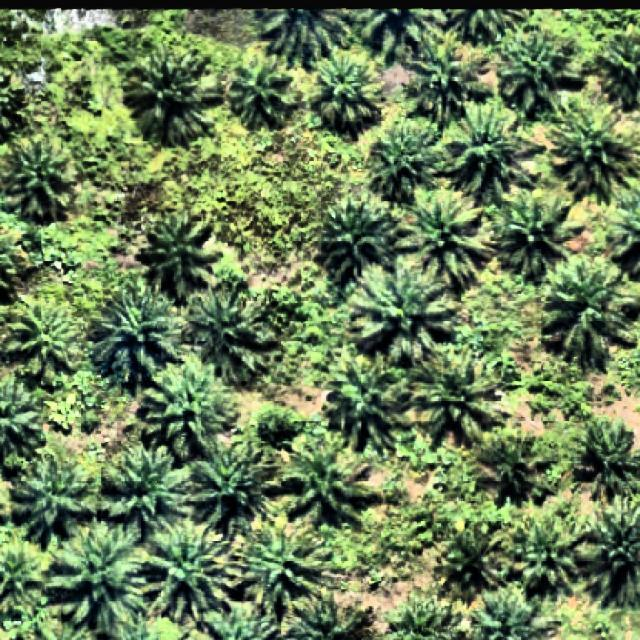Kelapa_Sawit: (267, 431, 398, 537), (139, 502, 247, 626), (161, 272, 274, 385), (83, 282, 192, 398), (404, 341, 514, 454), (46, 514, 151, 630), (136, 364, 250, 470), (534, 266, 640, 376), (440, 94, 543, 204), (352, 268, 463, 370), (126, 42, 225, 156), (0, 279, 92, 398), (543, 103, 640, 214), (323, 346, 419, 457), (400, 21, 496, 130), (134, 206, 228, 314), (312, 197, 417, 291), (403, 185, 497, 288), (492, 13, 583, 118), (190, 432, 276, 542), (489, 180, 580, 282), (95, 434, 194, 526), (242, 515, 342, 603), (12, 442, 103, 532), (3, 130, 85, 227), (476, 409, 562, 498), (228, 43, 303, 142), (363, 121, 445, 206), (569, 410, 640, 508), (432, 515, 520, 594), (312, 48, 388, 138), (580, 515, 640, 614), (520, 510, 582, 602), (266, 14, 360, 64), (587, 29, 640, 113)
